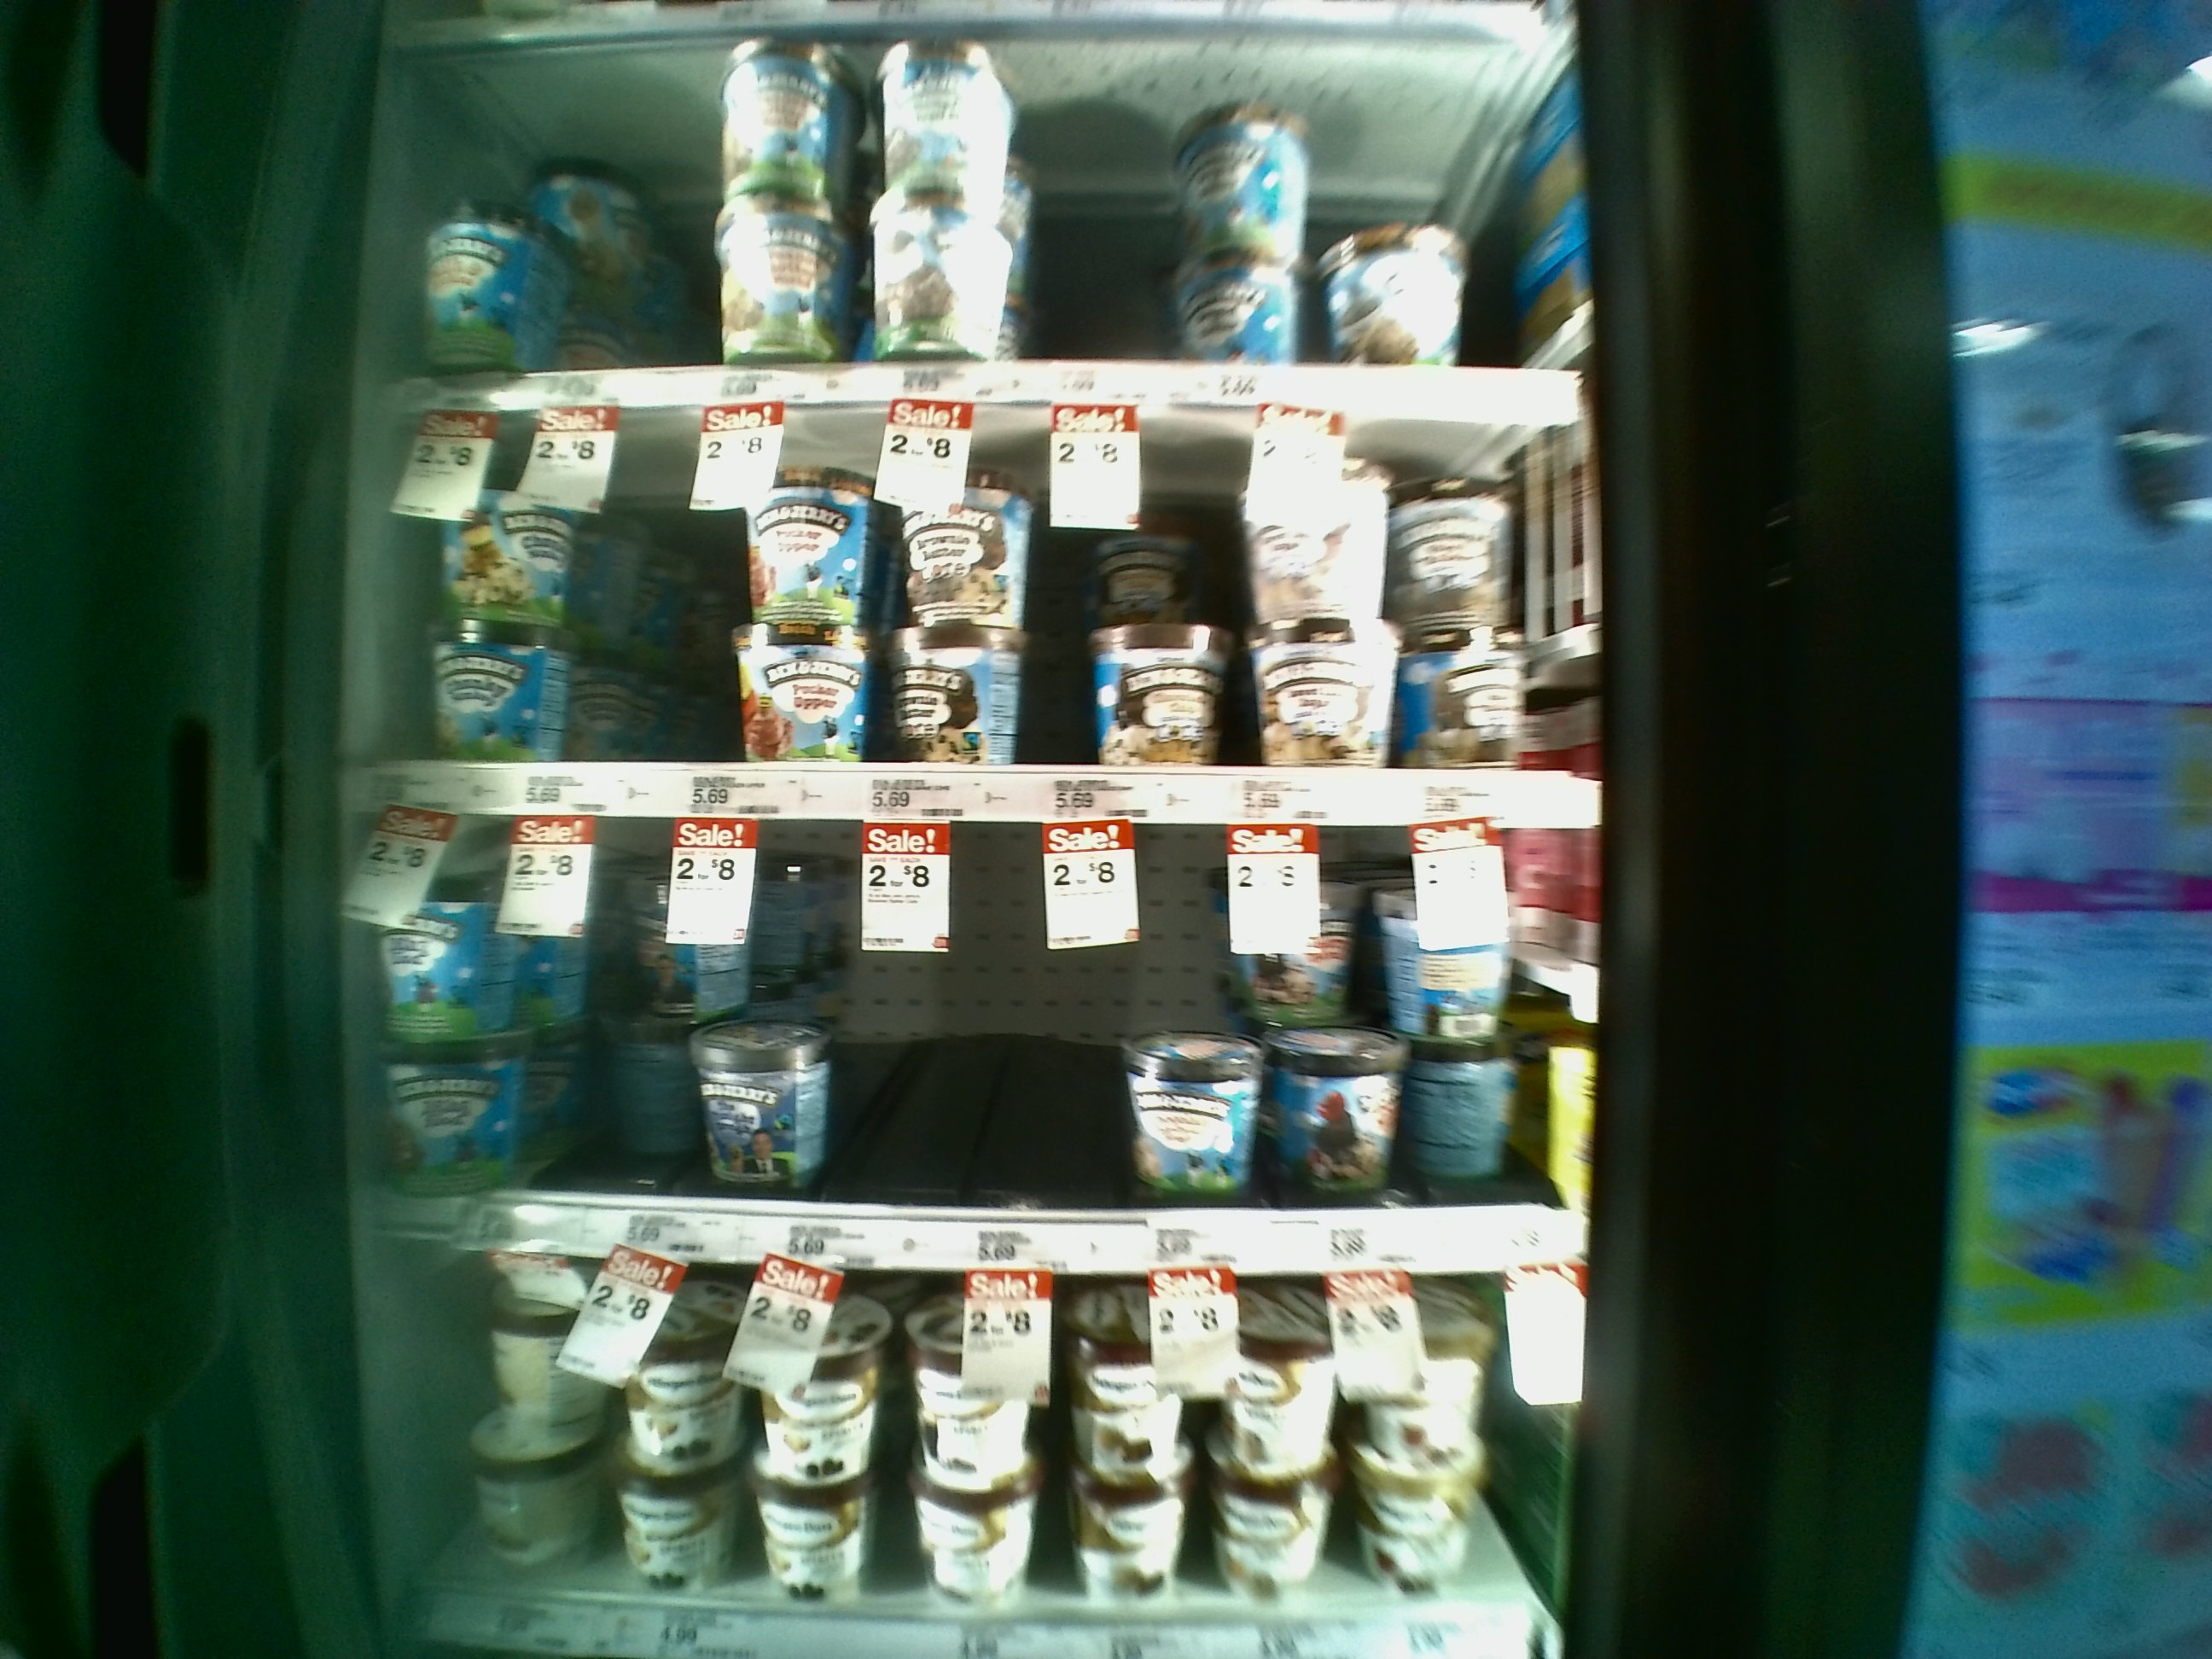ice-cream-shelf: (380, 814, 1587, 1276), (392, 415, 1595, 828), (383, 1246, 1564, 1652), (388, 26, 1599, 416)
